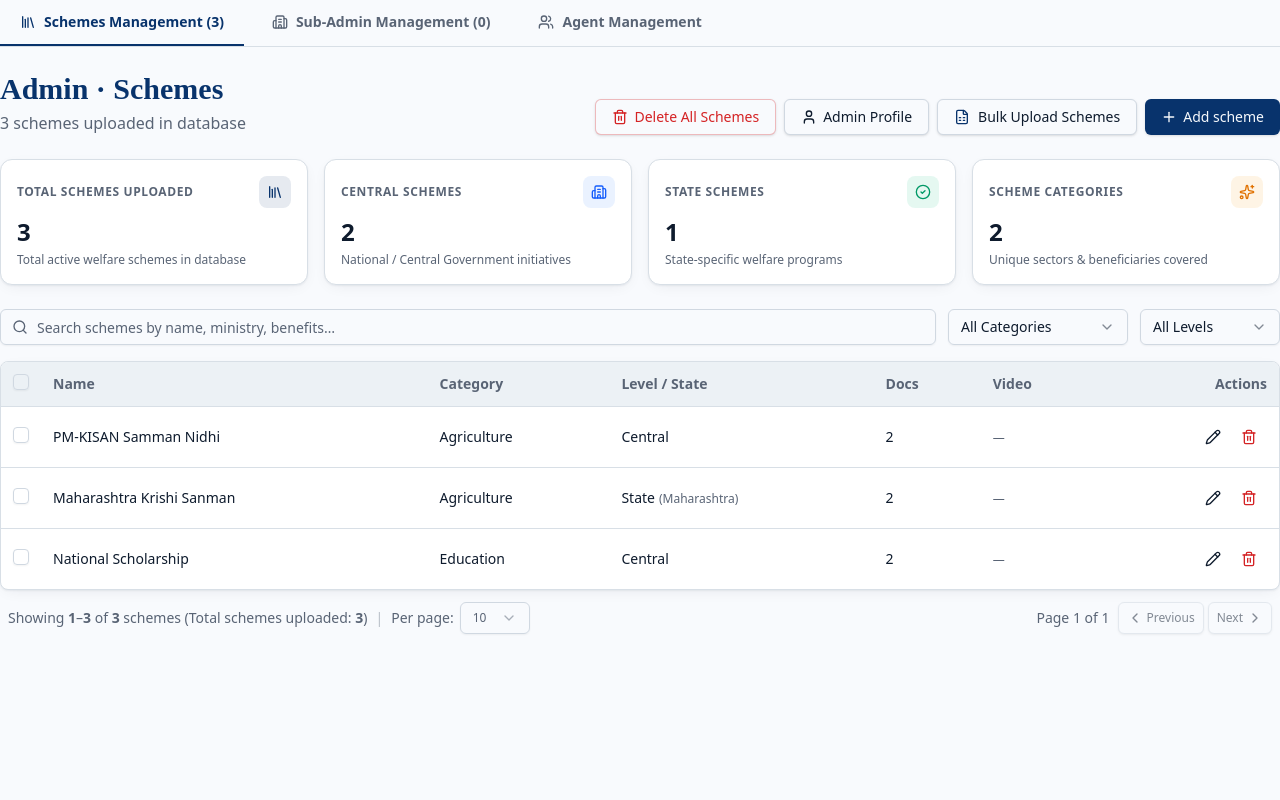
Test: Admin Bulk Delete Schemes Functionality › performs bulk deletion using unique scheme IDs upon confirmation
Click the checkbox with test id "select-scheme-scheme-1" at [21, 435], box x1=13 y1=427 x2=29 y2=443
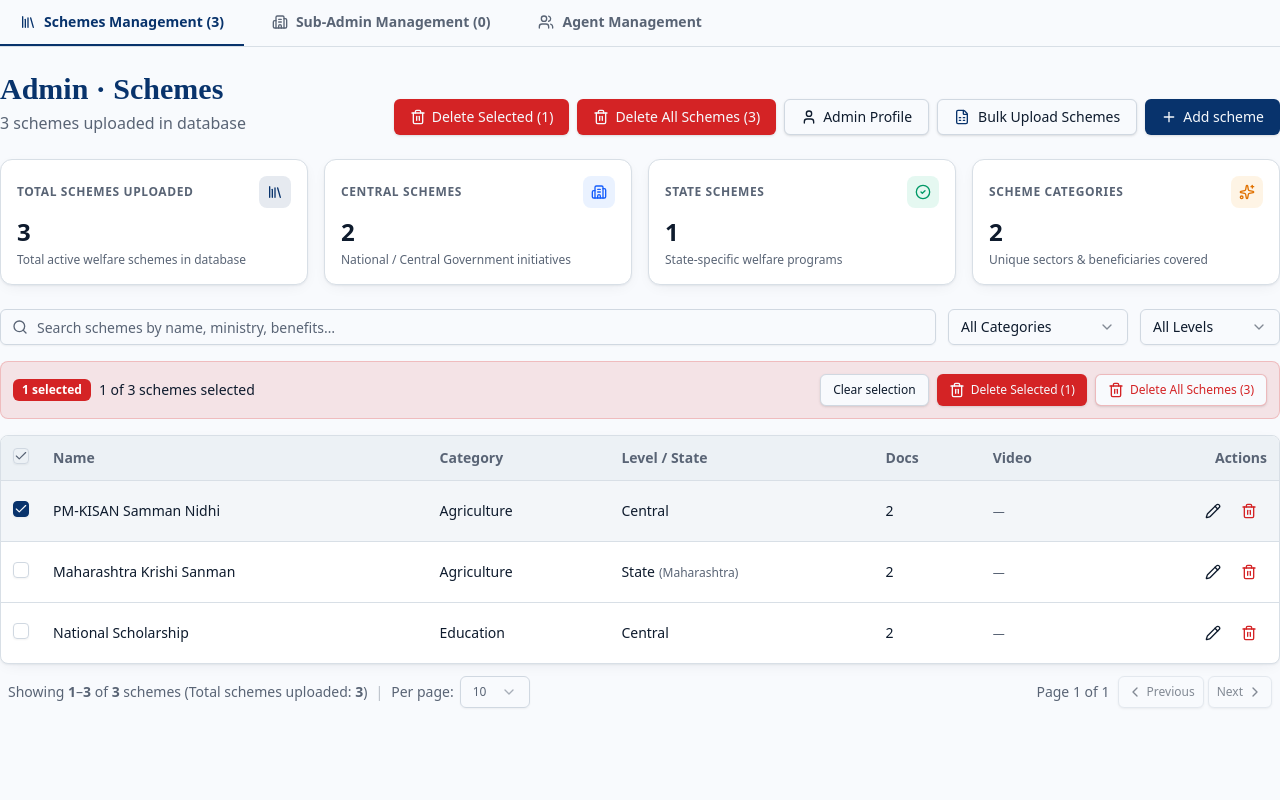
Click the checkbox with test id "select-scheme-scheme-2" at [21, 570], box x1=13 y1=562 x2=29 y2=578
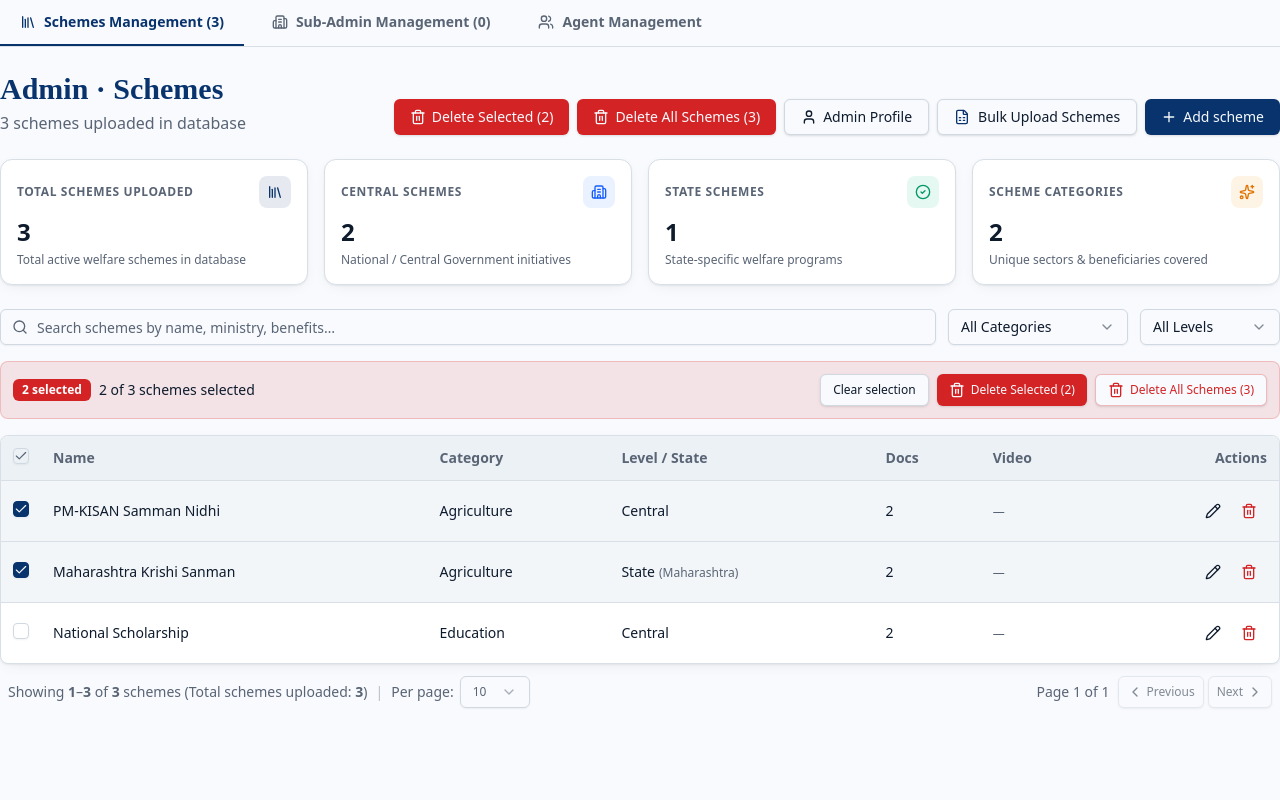
Click the button with test id "bulk-delete-button" at [1012, 390], box x1=937 y1=374 x2=1087 y2=406
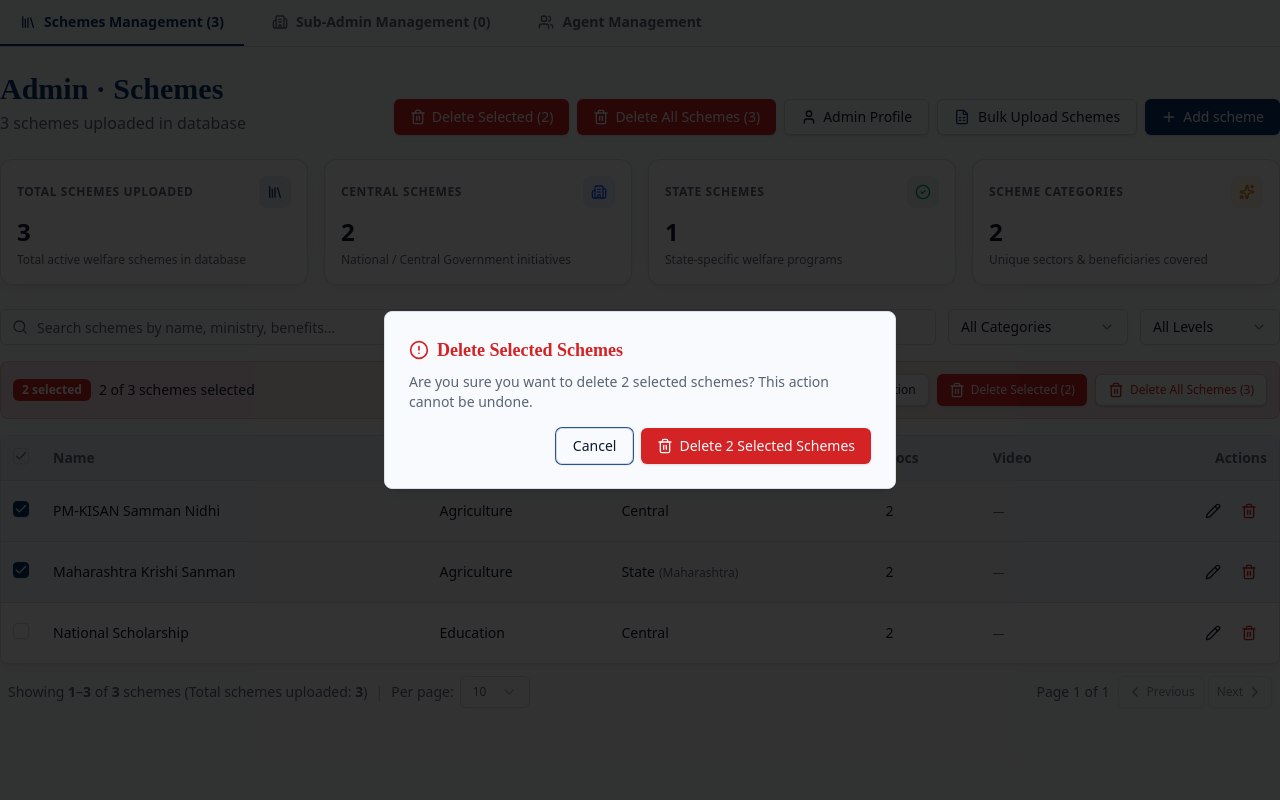
Check: the button with test id "confirm-bulk-delete-button" is shown
Click the button with test id "confirm-bulk-delete-button" at [756, 446], box x1=642 y1=428 x2=871 y2=464
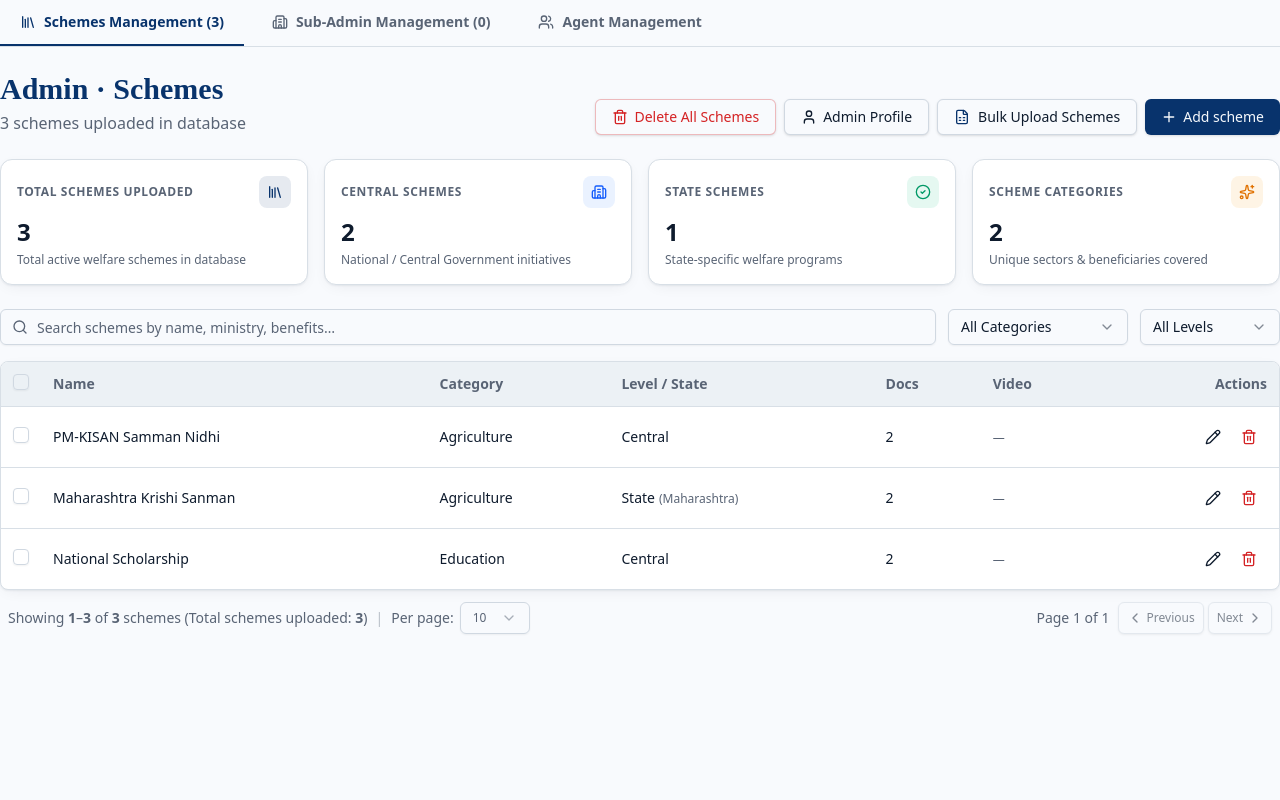
Check: the element with test id "bulk-actions-bar" is gone
